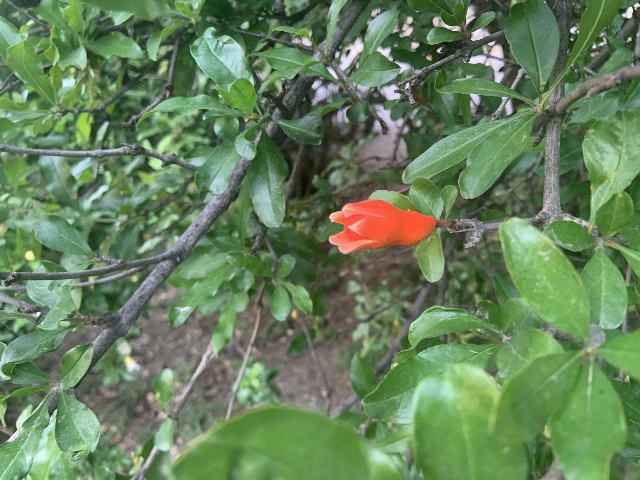flower: (327, 199, 436, 255)
